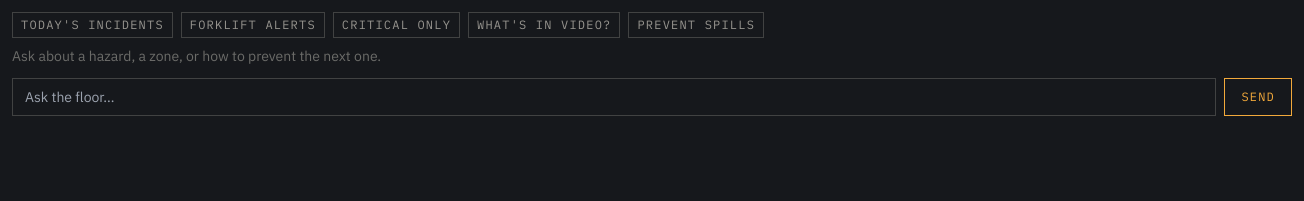
ChatPanel › does not markdown-render the user's own message
Type "**not markdown**" into the field with test id "chat-input" at (614, 97), box [12,78,1216,116]
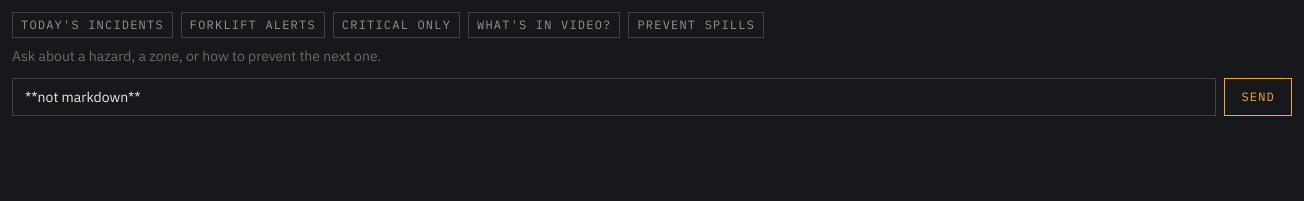
Click the button "Send" at (1258, 97), box [1224,78,1292,116]
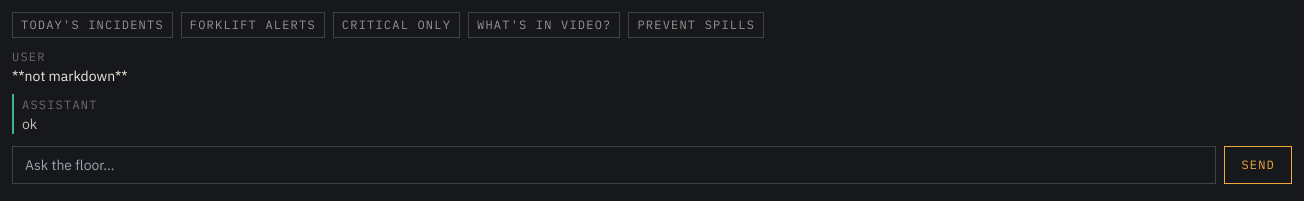
Check: the list with test id "chat-history" shows "**not markdown**", box [12,67,128,85]
